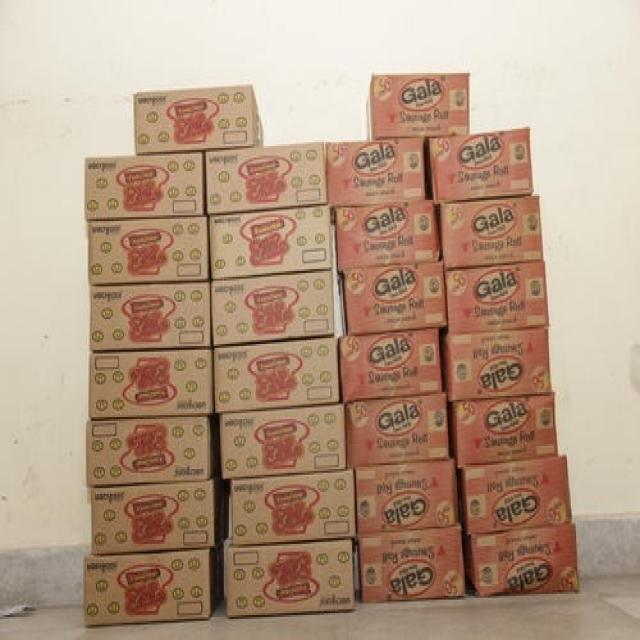box: (84, 548, 222, 624), (92, 480, 223, 555), (225, 539, 355, 614), (221, 405, 346, 480), (214, 338, 337, 413), (211, 274, 334, 348), (231, 472, 357, 543), (134, 87, 263, 156), (457, 459, 572, 535), (209, 206, 332, 277), (204, 145, 327, 214), (85, 419, 211, 485), (88, 217, 210, 284), (464, 522, 579, 593), (88, 284, 211, 350), (89, 353, 213, 418), (451, 393, 561, 466), (335, 202, 442, 277), (354, 460, 459, 536), (355, 528, 464, 601), (346, 393, 452, 468), (337, 263, 445, 335), (446, 329, 552, 402), (429, 128, 532, 203), (86, 156, 205, 220), (437, 198, 544, 269), (359, 74, 469, 142), (444, 263, 549, 334), (337, 330, 443, 399), (327, 139, 426, 204)
